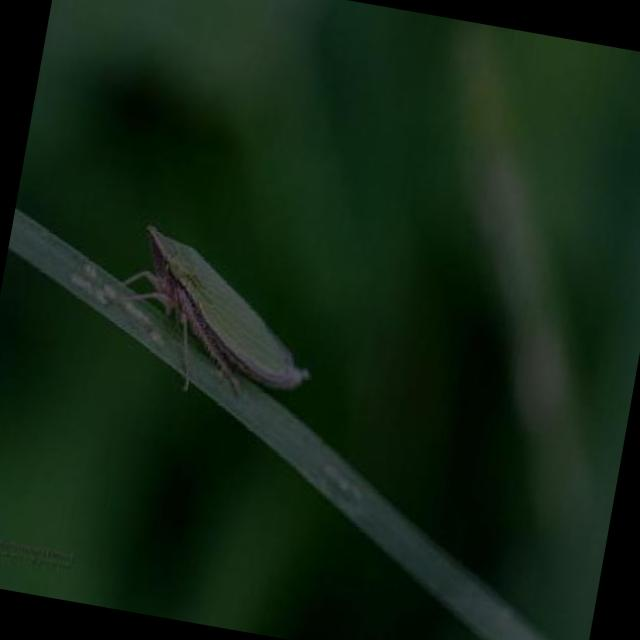green-leafhopper: (113, 222, 329, 432)
